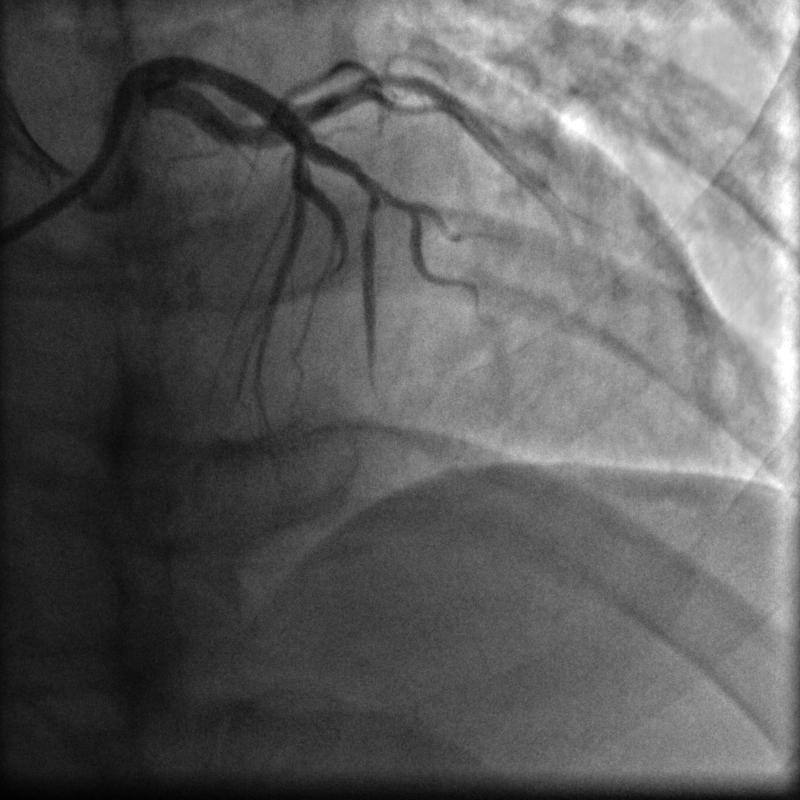Stenosis: (357, 183, 380, 232)
